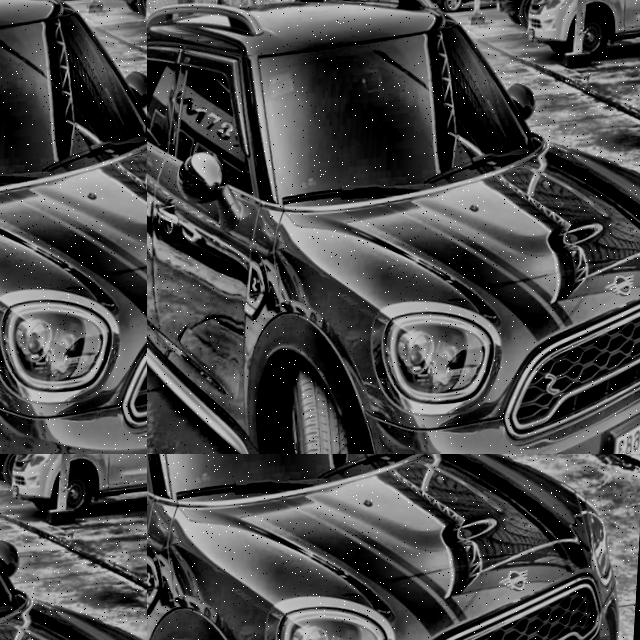license-plate: (175, 398, 248, 454)
